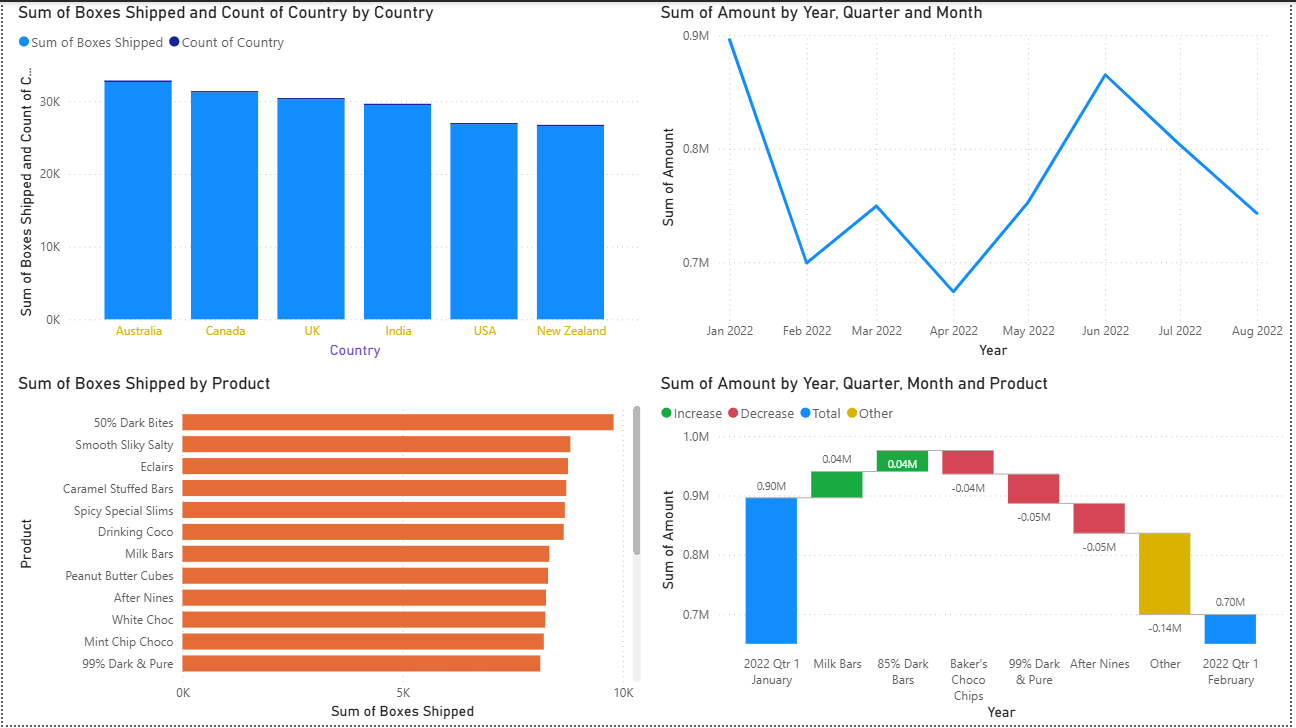

This screenshot's page, from the dashboard's own definition file:
{"tool":"powerbi","page":{"name":"Duplicate of Page 2","canvas":[1280,720],"ordinal":0},"visuals":[{"type":"columnChart","fields":{"Y":["Sum(data.Boxes Shipped)","CountNonNull(data.Country)"],"Category":["data.Country"]},"box":[9.6,0,629.8,359.5],"z":0},{"type":"barChart","fields":{"Y":["Sum(data.Boxes Shipped)"],"Category":["data.Product"]},"box":[10,370,630,350],"z":1000},{"type":"lineChart","fields":{"Category":["data.Date.Variation.Date Hierarchy.Year","data.Date.Variation.Date Hierarchy.Quarter","data.Date.Variation.Date Hierarchy.Month","data.Date.Variation.Date Hierarchy.Day"],"Y":["Sum(data.Amount)"]},"box":[649.5,0,629.8,359.5],"z":2000},{"type":"waterfallChart","fields":{"Category":["data.Date.Variation.Date Hierarchy.Year","data.Date.Variation.Date Hierarchy.Quarter","data.Date.Variation.Date Hierarchy.Month"],"Breakdown":["data.Product"],"Y":["Sum(data.Amount)"]},"box":[649,370,630,350],"z":3000}]}

Visuals, with their boxes in screenshot pixels (x1, y1, x2, y2), scaled from the page's 1280x720 canvas onto the 1296x728 screenshot:
columnChart - Sum(data.Boxes Shipped) x CountNonNull(data.Country): box=[10, 0, 647, 363]
barChart - Sum(data.Boxes Shipped) x data.Product: box=[10, 374, 648, 727]
lineChart - data.Date.Variation.Date Hierarchy.Year x data.Date.Variation.Date Hierarchy.Quarter: box=[658, 0, 1295, 363]
waterfallChart - data.Date.Variation.Date Hierarchy.Year x data.Date.Variation.Date Hierarchy.Quarter: box=[657, 374, 1295, 727]
